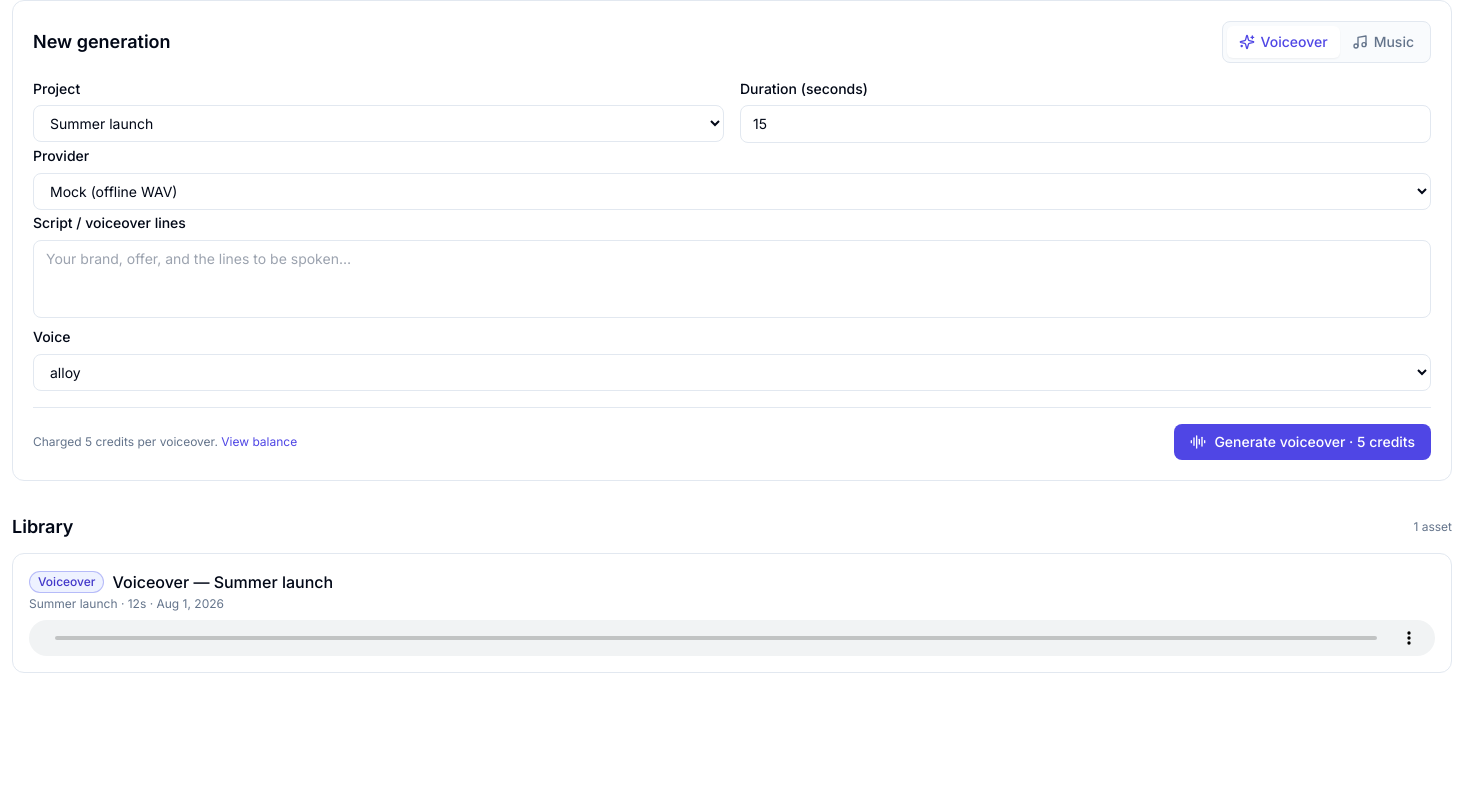
Scenario: AudioSuite › switching to music updates the cost label and default duration
The width and height of the screenshot is (1464, 810).
Click the button "Music": point(1383, 42) left=1340, top=26, right=1426, bottom=58
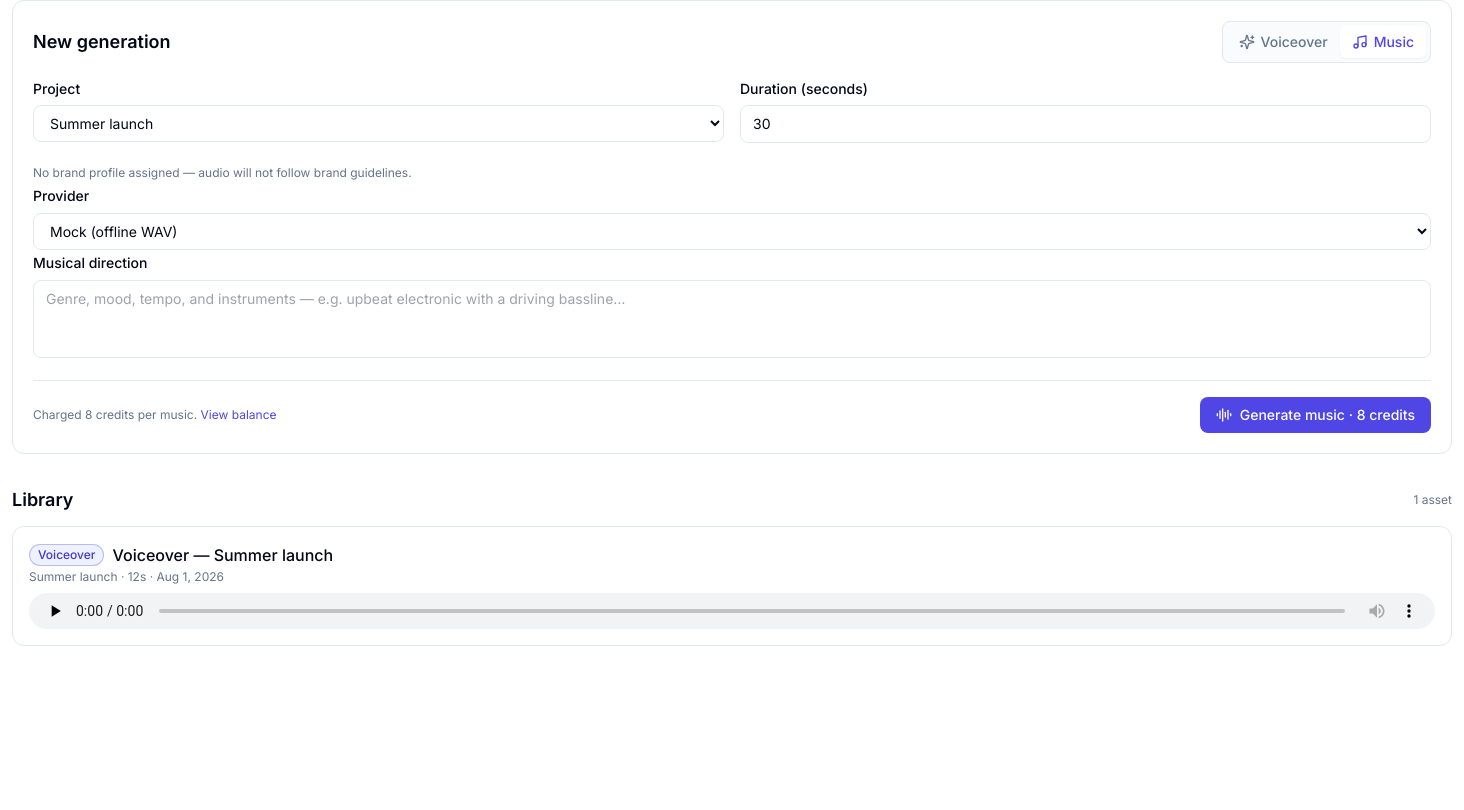
expect the button "Generate music · 8 credits" is shown: met, box left=1200, top=397, right=1431, bottom=433
expect the button "Generate voiceover" is gone: met
